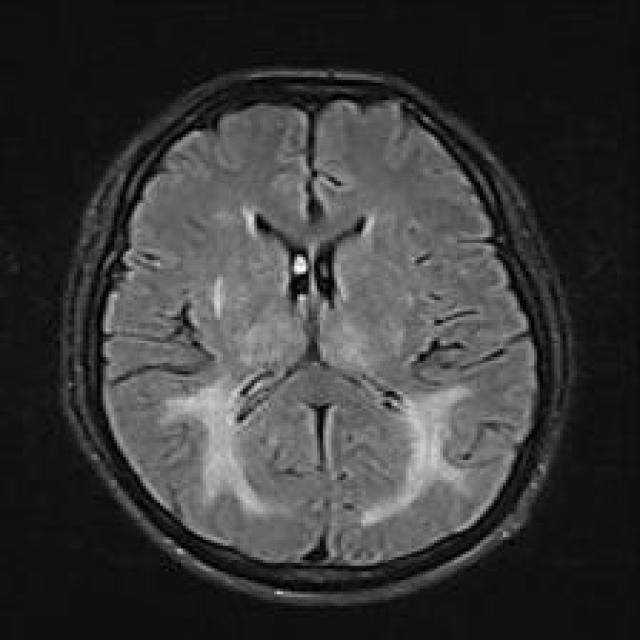no_tumor: (51, 56, 580, 610)
